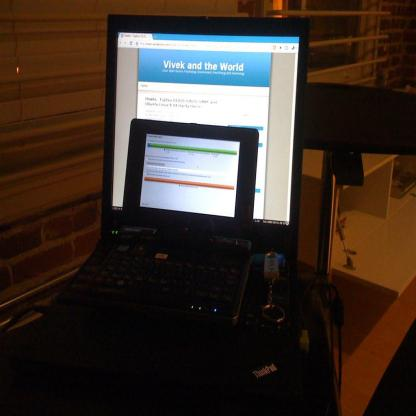board: (32, 14, 309, 416), (82, 118, 258, 327)
